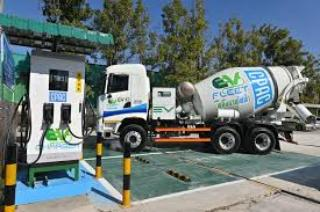cement_mixer_truck: (97, 64, 315, 156)
